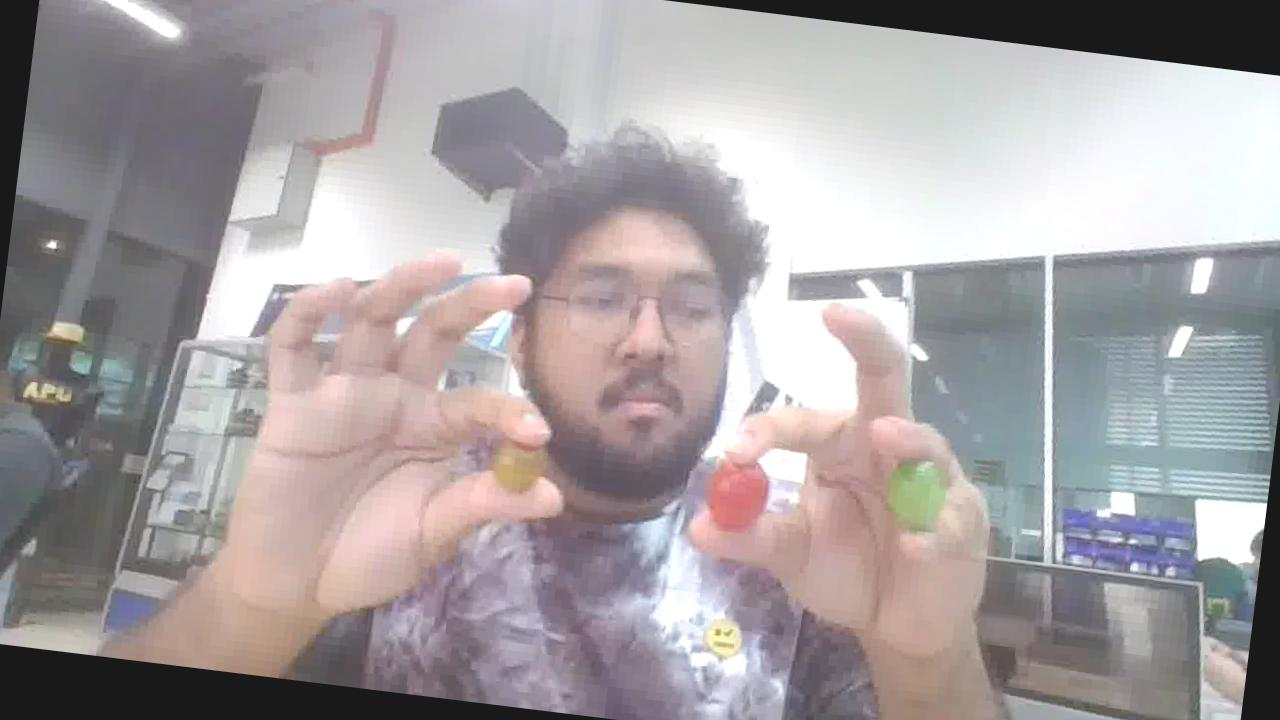green_cherry_tomato: (887, 462, 944, 532)
red_cherry_tomato: (707, 460, 768, 528)
yellow_cherry_tomato: (493, 445, 547, 493)
